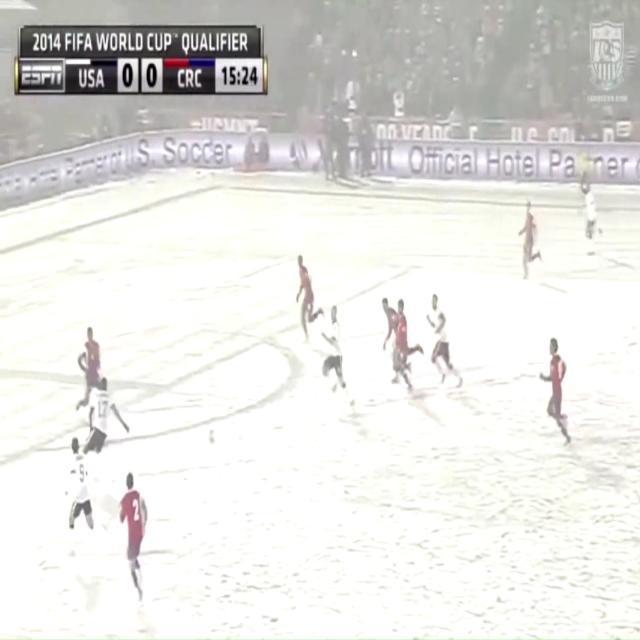ball: (207, 428, 220, 458)
player: (117, 465, 163, 612), (418, 286, 466, 402), (535, 331, 576, 455), (319, 293, 355, 413), (291, 240, 326, 349), (88, 380, 127, 476), (67, 436, 99, 549), (80, 325, 112, 431), (512, 205, 552, 289), (394, 289, 421, 398), (375, 287, 401, 395), (578, 185, 608, 268)
